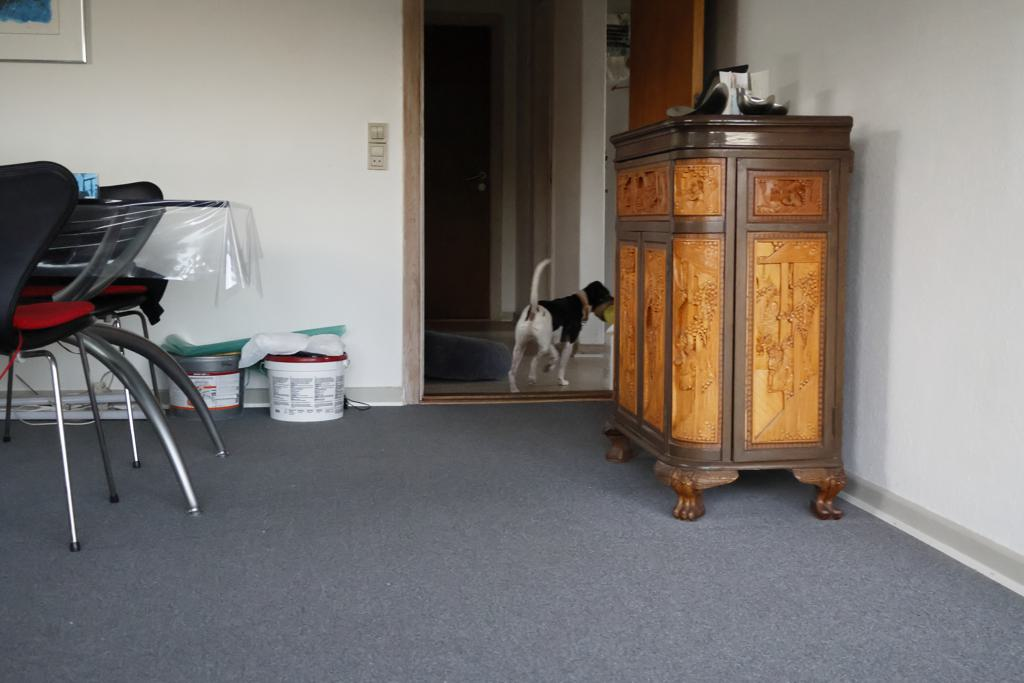Dog: (504, 253, 617, 393)
